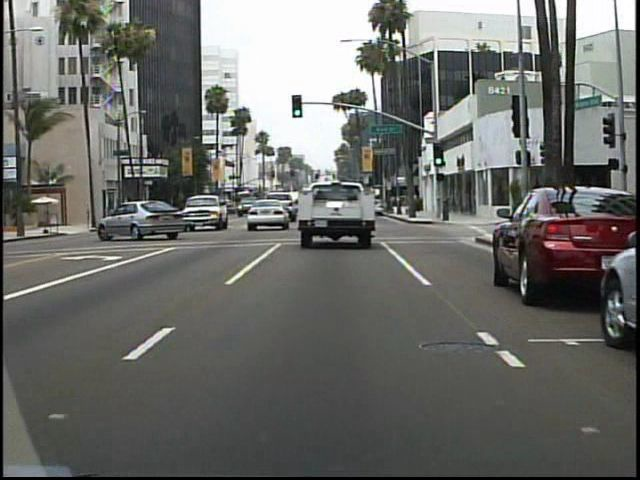person: (440, 186, 455, 223)
